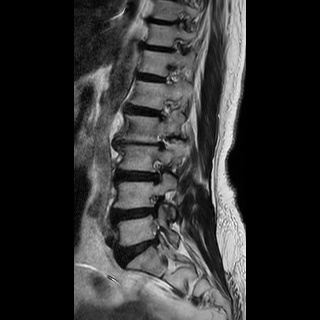LFS2: (146, 155, 167, 188)
LFS3: (141, 192, 164, 221)
